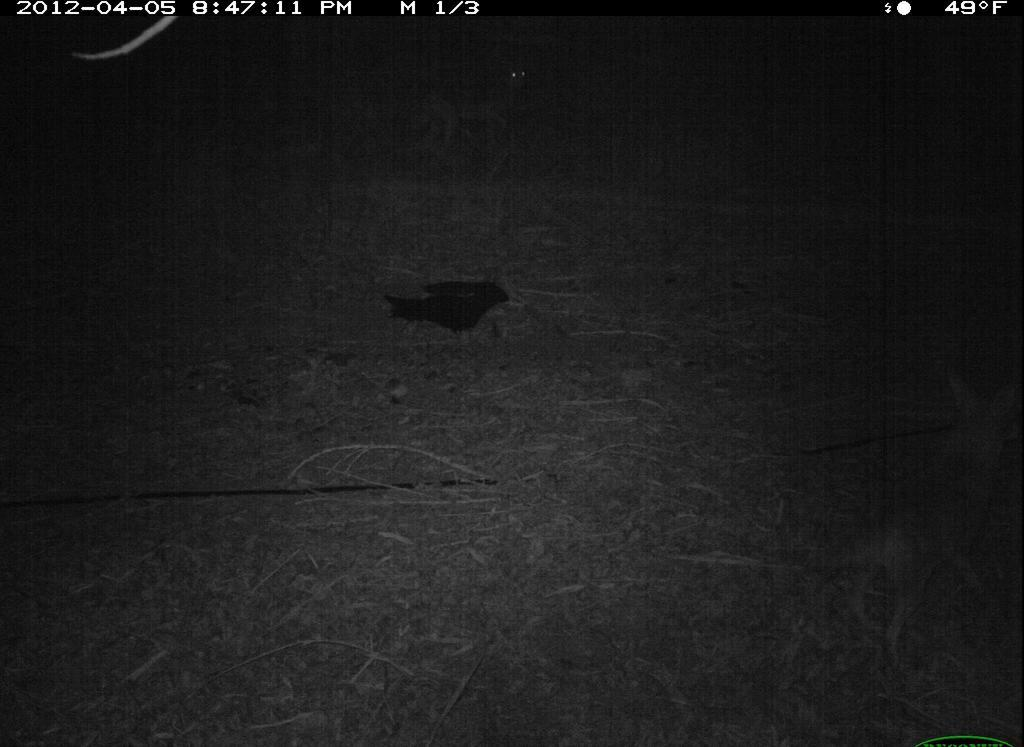coyote: (804, 370, 1022, 674)
